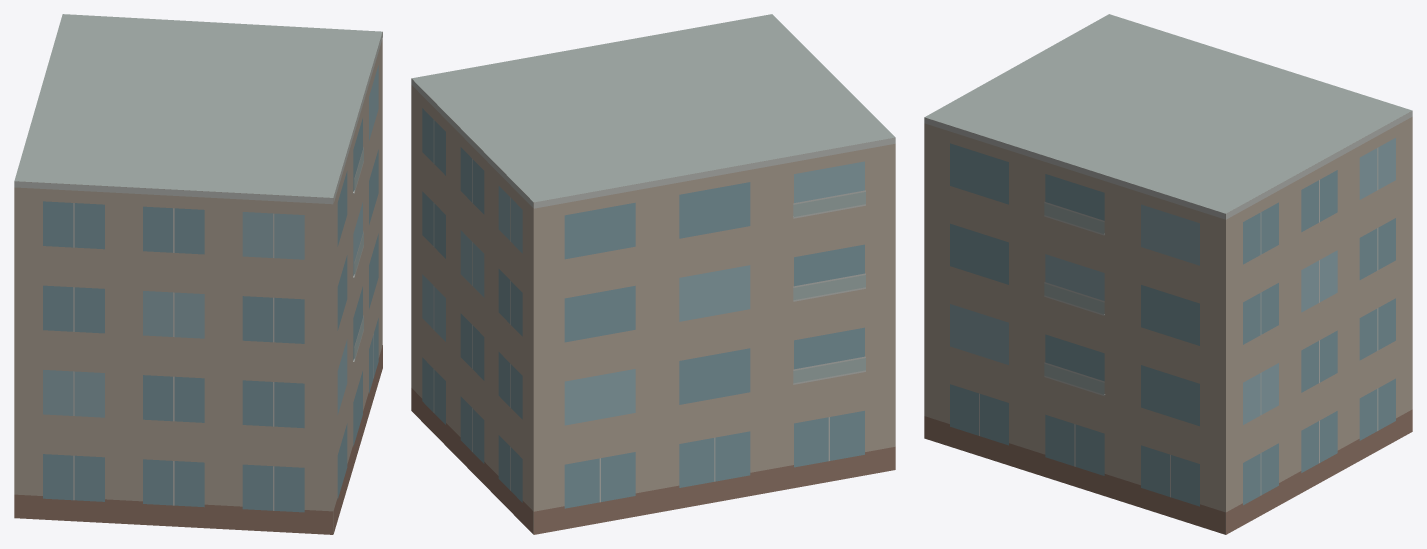
Rendered from survey-upis-32983097.glb.
3 renders of one model, left to right at view 1: azimuth 30°, elevation 25°; view 2: azimuth 150°, elevation 25°; view 3: azimuth 270°, elevation 25°, orthographic. The views are drawn at different scales.
Visible parts, largest first — view 1: survey-upis-32983097.tmp; view 2: survey-upis-32983097.tmp; view 3: survey-upis-32983097.tmp.
Boxes of the visible parts, x1,y1,x2,y2 form: survey-upis-32983097.tmp: [14, 14, 382, 534]; survey-upis-32983097.tmp: [411, 14, 895, 534]; survey-upis-32983097.tmp: [924, 14, 1412, 534].
Size of the model in its own units: 17.49 by 13.1 by 18.06.
